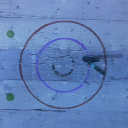Axe Tip: (88, 57, 99, 62)
